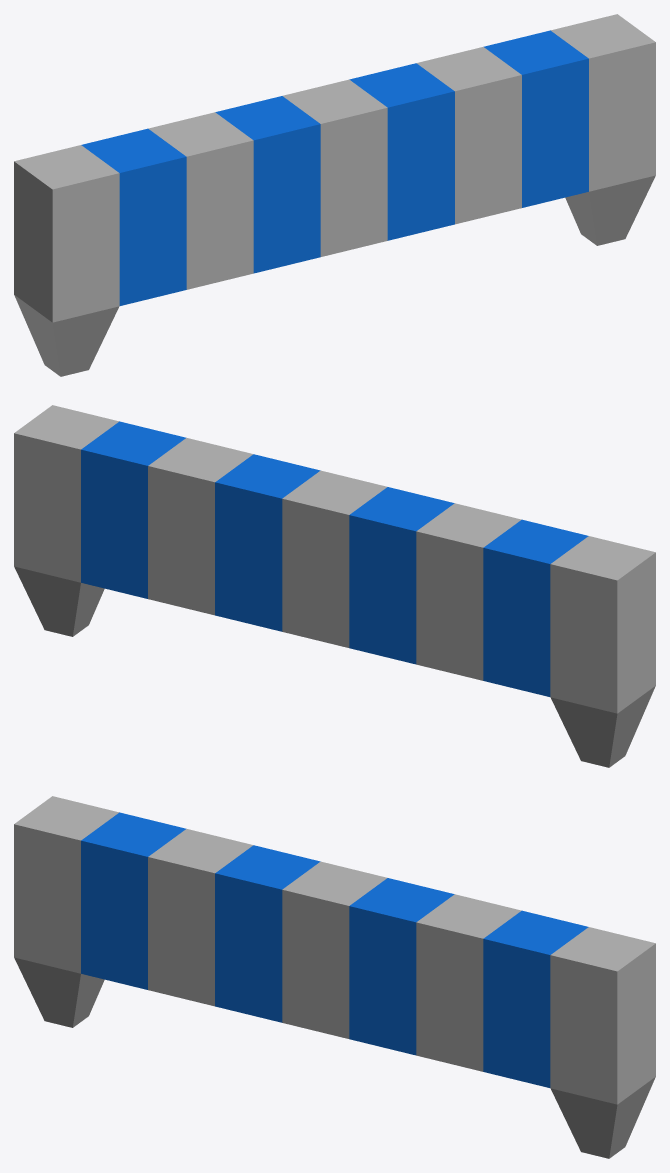
Rendered from RoadWorksBarrierLow.fbx.
3 views of the same model, one above another, from view 1: azimuth 30°, elevation 25°; view 2: azimuth 150°, elevation 25°; view 3: azimuth 330°, elevation 25° (orthographic).
Visible parts, largest first — view 1: RoadWorksBarrierLow; view 2: RoadWorksBarrierLow; view 3: RoadWorksBarrierLow.
Boxes of the visible parts, x1,y1,x2,y2 form: RoadWorksBarrierLow: [14, 14, 655, 376]; RoadWorksBarrierLow: [14, 405, 655, 767]; RoadWorksBarrierLow: [14, 796, 655, 1158].
Bounding box in the file's own units: 800 × 254 × 88.43.
